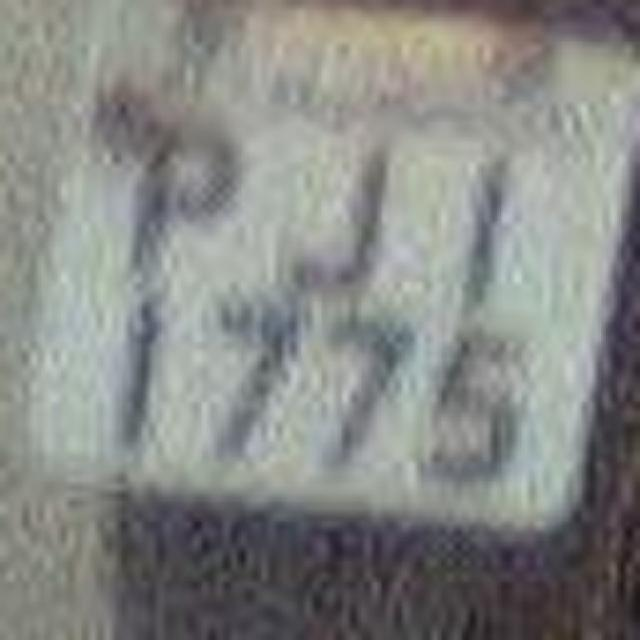1: (95, 284, 200, 488)
5: (416, 292, 549, 488)
7: (308, 288, 428, 488)
J: (264, 120, 404, 308)
P: (104, 124, 228, 324)
